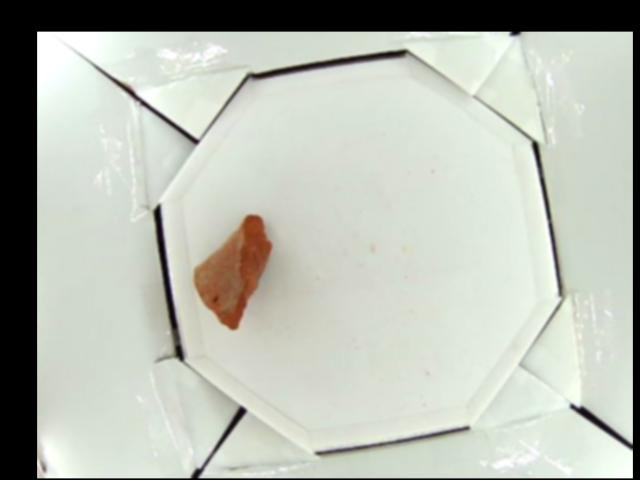Brisk: (193, 214, 271, 328)
